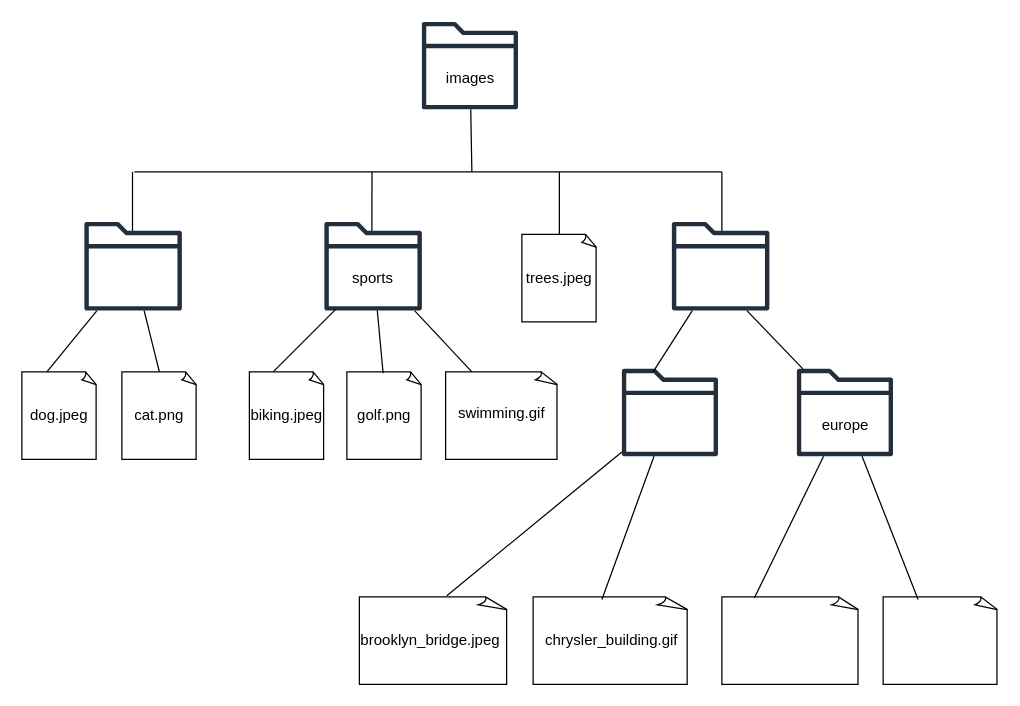
This 1020x706 diagram has some shape labels left out. Each missing label, with the box of its shape:
.animals: (84, 221, 181, 310)
america: (621, 368, 717, 456)
architecture: (671, 221, 769, 310)
notre_dame.jpeg: (721, 596, 859, 684)
parthenon.jpeg: (882, 596, 998, 684)
